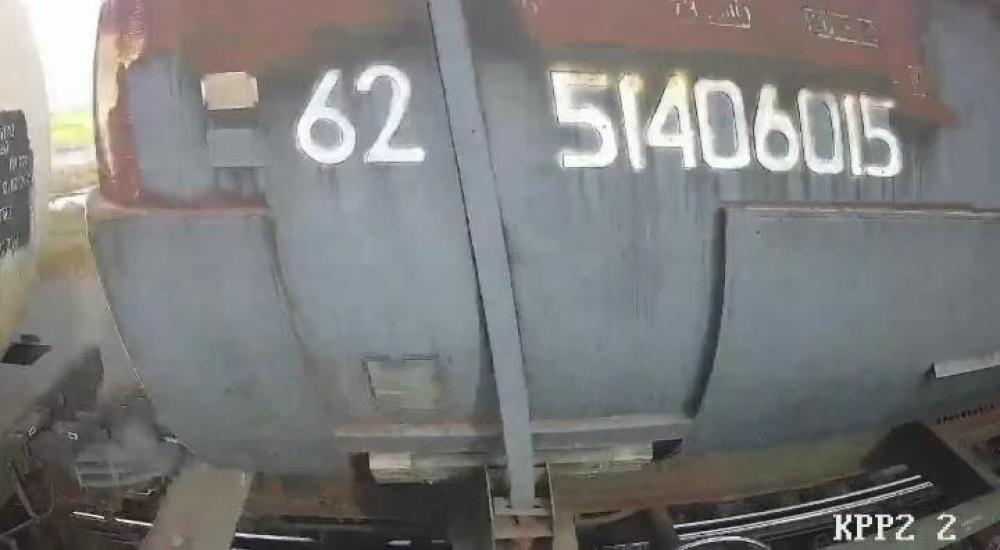Wagon-number: (539, 57, 908, 189)
